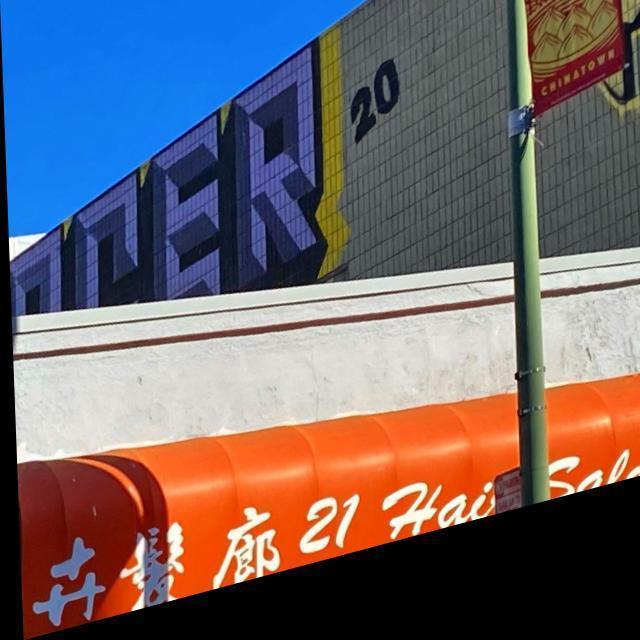nonspitting: (9, 45, 329, 310), (350, 56, 400, 147)
